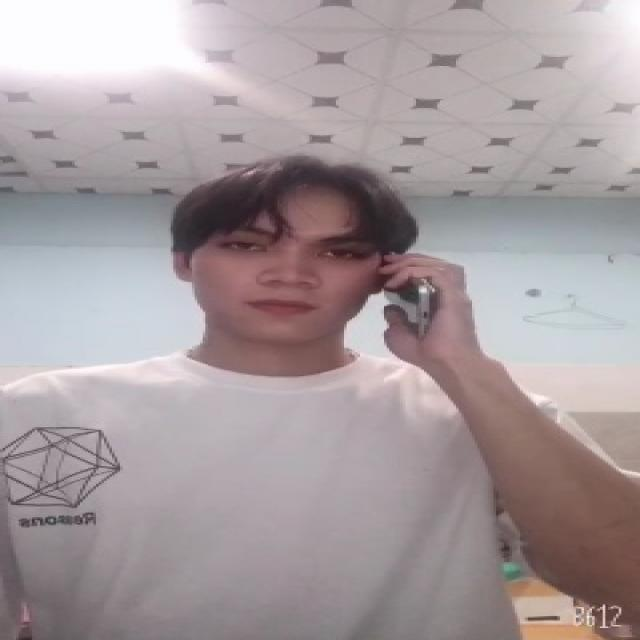Phone: (375, 252, 439, 340)
